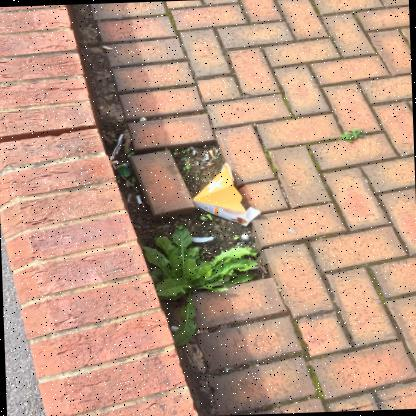Aluminium foil: (109, 134, 123, 161)
Cigarette: (116, 163, 128, 169), (136, 196, 142, 205), (110, 160, 119, 164), (205, 154, 209, 160), (196, 162, 199, 166)
Meal carton: (193, 163, 261, 226)
Plastic bottle cap: (118, 165, 131, 177)
